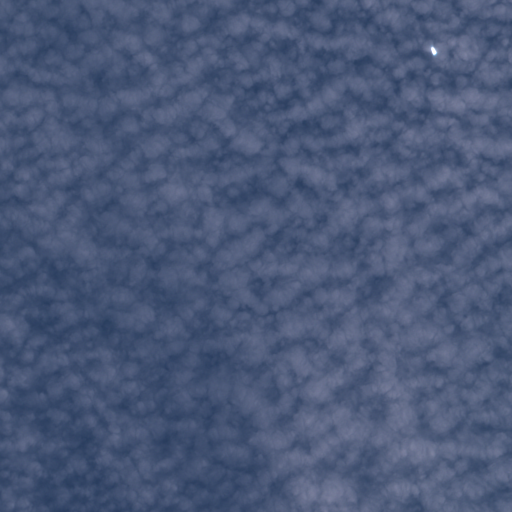Iceberg: (431, 47, 436, 54)
